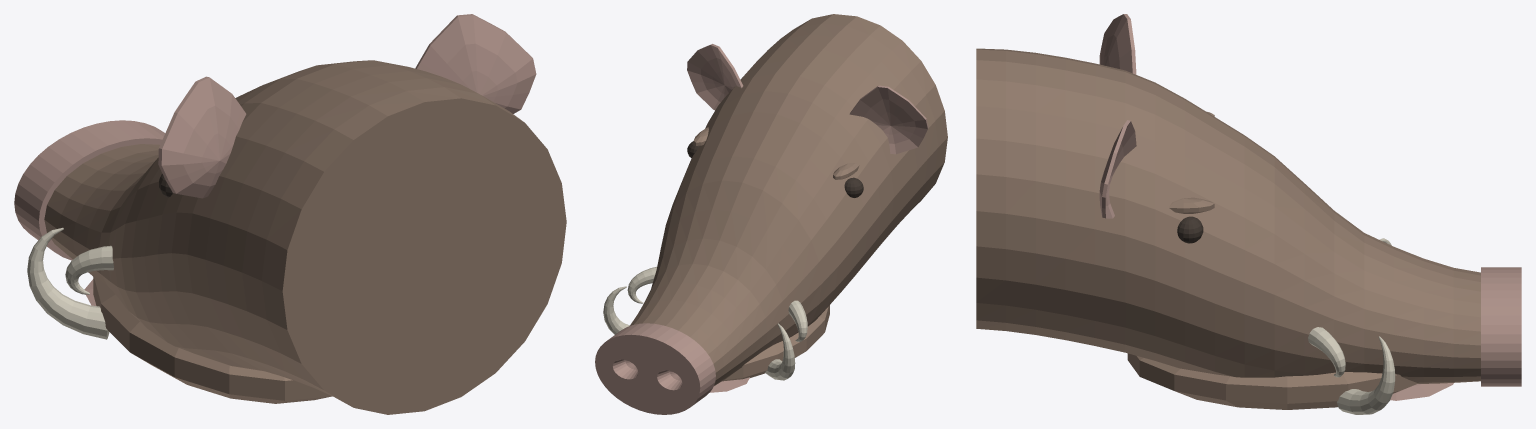
The model's file is boar_head_01.glb.
3 renders of one model, left to right at view 1: azimuth 30°, elevation 25°; view 2: azimuth 150°, elevation 25°; view 3: azimuth 270°, elevation 25°, orthographic. The views are drawn at different scales.
Visible parts, largest first — view 1: Cranium, Jaw, EarL, EarR, Nose, LowerTuskL, UpperTuskL; view 2: Cranium, Nose, EarL, EarR, Jaw, LowerTuskL, LowerTuskR, UpperTuskR, UpperTuskL, Mouth; view 3: Cranium, Jaw, Nose, LowerTuskR, EarL, EarR, UpperTuskR, Mouth, BrowR, EyeR.
Boxes of the visible parts, <box> form: Cranium: <box>44,60,566,414</box>; Jaw: <box>93,275,331,403</box>; EarL: <box>158,76,246,198</box>; EarR: <box>415,14,536,113</box>; Nose: <box>14,120,164,260</box>; LowerTuskL: <box>27,227,109,339</box>; UpperTuskL: <box>65,245,113,294</box>; Cranium: <box>630,14,947,385</box>; Nose: <box>595,323,715,414</box>; EarL: <box>849,85,928,154</box>; EarR: <box>687,44,743,110</box>; Jaw: <box>722,305,829,381</box>; LowerTuskL: <box>765,323,795,380</box>; LowerTuskR: <box>603,286,629,334</box>; UpperTuskR: <box>627,266,656,303</box>; UpperTuskL: <box>788,300,807,341</box>; Mouth: <box>709,377,749,392</box>; Cranium: <box>976,48,1480,383</box>; Jaw: <box>1127,353,1418,409</box>; Nose: <box>1481,267,1521,386</box>; LowerTuskR: <box>1337,336,1395,414</box>; EarL: <box>1099,14,1136,74</box>; EarR: <box>1099,120,1136,218</box>; UpperTuskR: <box>1308,327,1345,377</box>; Mouth: <box>1390,383,1453,400</box>; BrowR: <box>1169,197,1214,213</box>; EyeR: <box>1177,216,1203,243</box>.
Size of the model in its own units: 0.6635 by 0.665 by 1.
